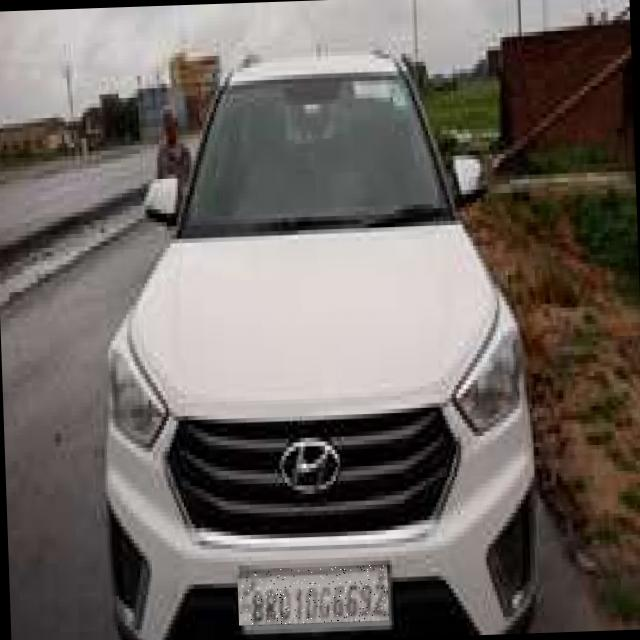Plate: (238, 566, 390, 627)
